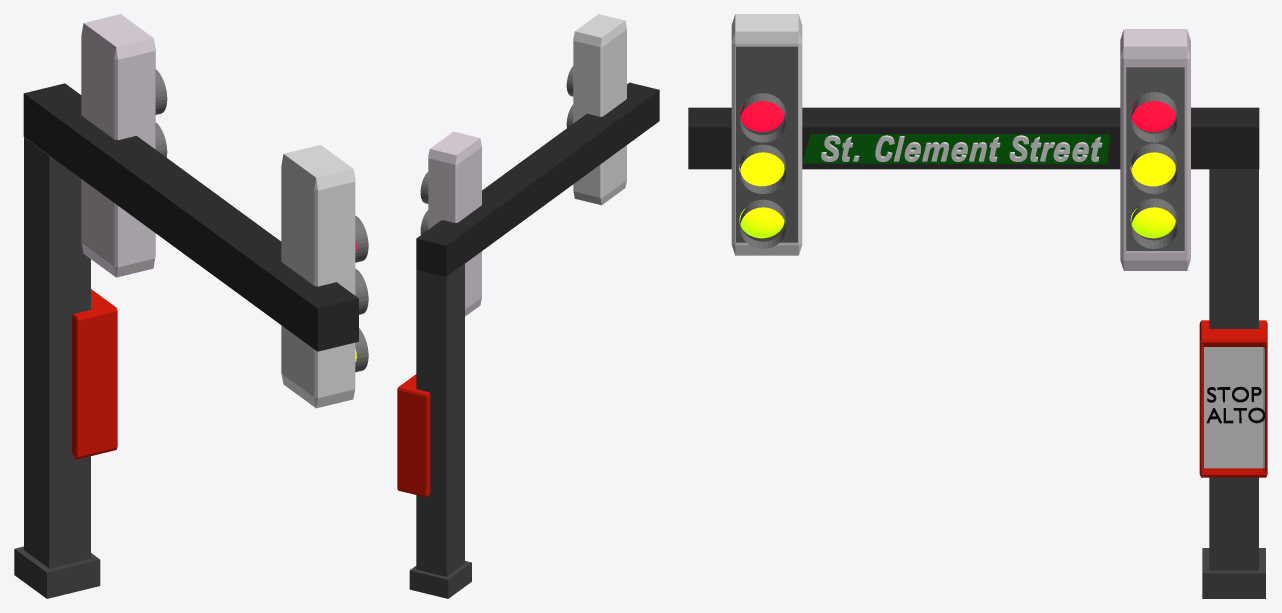
File: traffic_light_1.fbx
3 renders of one model, left to right at view 1: azimuth 30°, elevation 25°; view 2: azimuth 150°, elevation 25°; view 3: azimuth 270°, elevation 25°, orthographic. The views are drawn at different scales.
Parts seen in each view (by area): view 1: Cube, Cube.002, Cube.001, Cube.003, Cylinder.005; view 2: Cube, Cube.002, Cube.001, Cube.003; view 3: Cube, Cube.002, Cube.001, Cube.003, Text, Sphere.004, Sphere.001, Sphere.003, Sphere.005, Sphere, Sphere.002, Cylinder (+6 smaller).
Boxes of the visible parts, x1=… form: Cube: x1=14, y1=83, x2=358, y2=598; Cube.002: x1=281, y1=145, x2=355, y2=408; Cube.001: x1=81, y1=14, x2=155, y2=277; Cube.003: x1=72, y1=289, x2=117, y2=459; Cylinder.005: x1=355, y1=215, x2=368, y2=262; Cube: x1=409, y1=82, x2=659, y2=598; Cube.002: x1=573, y1=14, x2=626, y2=205; Cube.001: x1=428, y1=131, x2=481, y2=316; Cube.003: x1=397, y1=374, x2=430, y2=497; Cube: x1=688, y1=107, x2=1265, y2=598; Cube.002: x1=731, y1=14, x2=802, y2=255; Cube.001: x1=1120, y1=29, x2=1190, y2=270; Cube.003: x1=1199, y1=320, x2=1267, y2=477; Text: x1=821, y1=135, x2=1102, y2=161; Sphere.004: x1=739, y1=152, x2=784, y2=186; Sphere.001: x1=1130, y1=152, x2=1175, y2=186; Sphere.003: x1=739, y1=207, x2=784, y2=238; Sphere.005: x1=739, y1=101, x2=784, y2=131; Sphere: x1=1130, y1=101, x2=1175, y2=131; Sphere.002: x1=1130, y1=207, x2=1175, y2=238; Cylinder: x1=1131, y1=92, x2=1177, y2=142.
Bounding box in the file's own units: 406 × 2730 × 2500.
